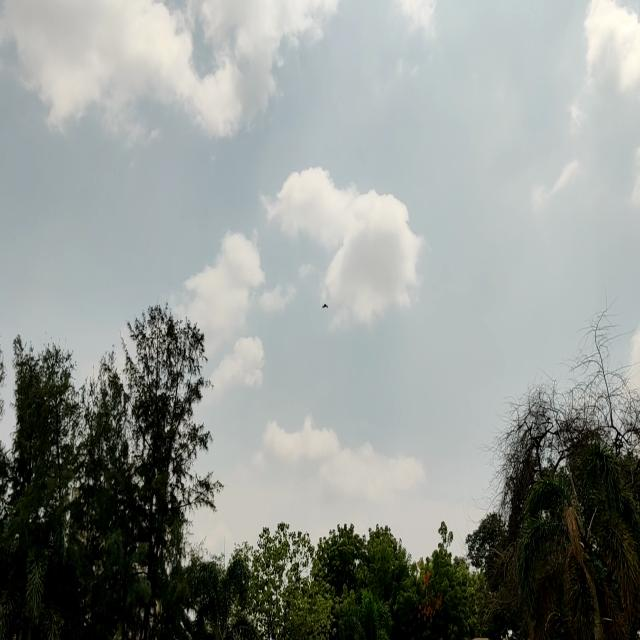drone: (320, 298, 330, 312)
